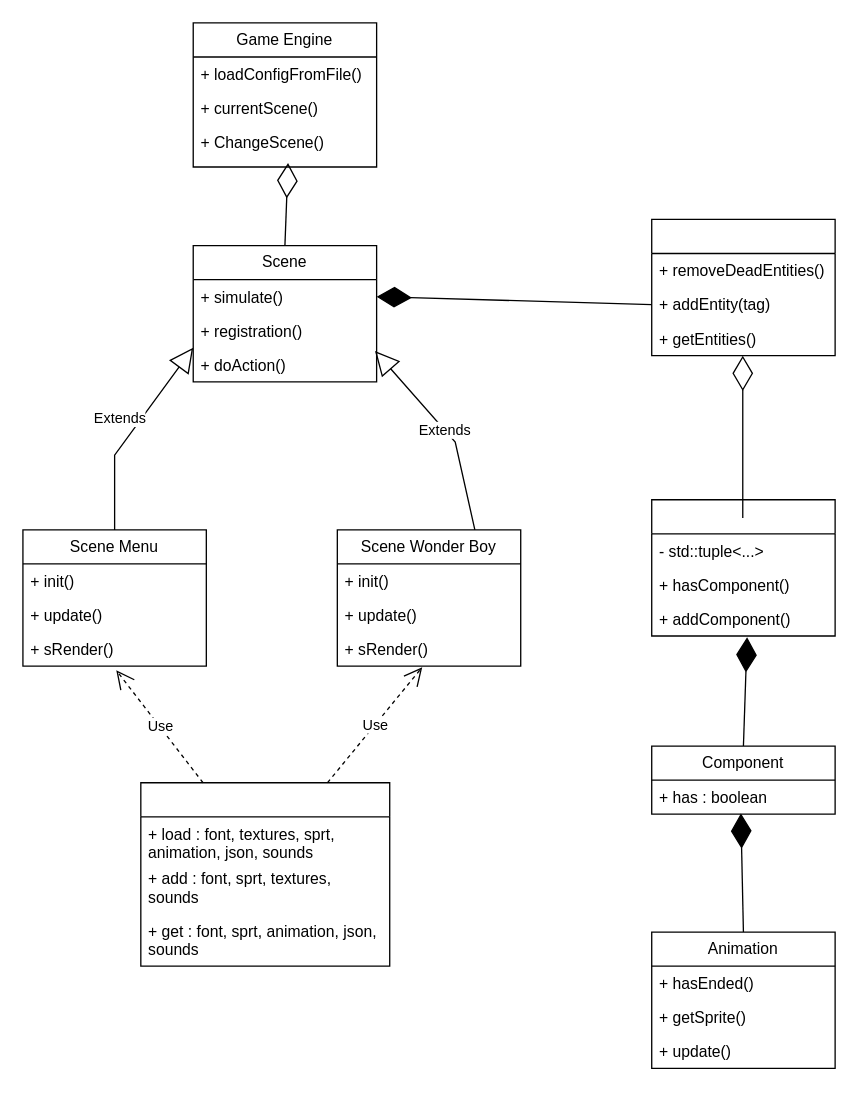
Some shapes in this 858 by 1095 pixel diagram are drawn without their labels. Here are the shapes that lost their labels. From the top down, the box of each, then its label:
(650, 218, 835, 356): Entity Manager
(650, 498, 835, 636): Entity
(140, 781, 390, 966): Assets
